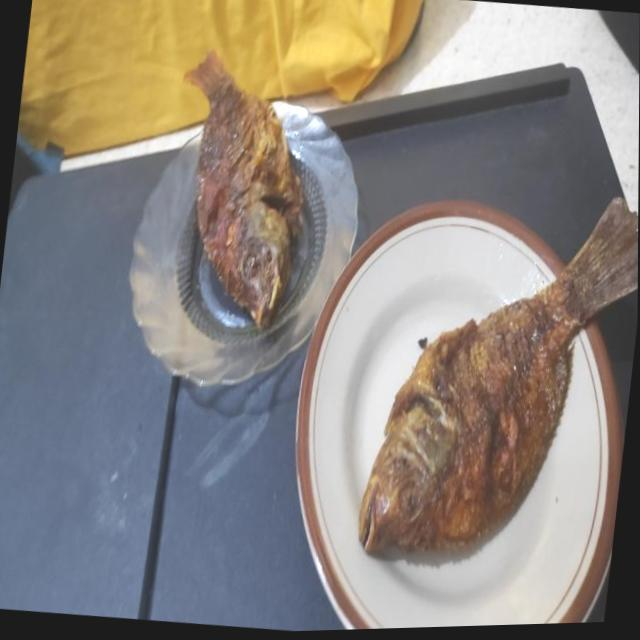ikan_mujair: (358, 197, 638, 553), (184, 51, 302, 326)
